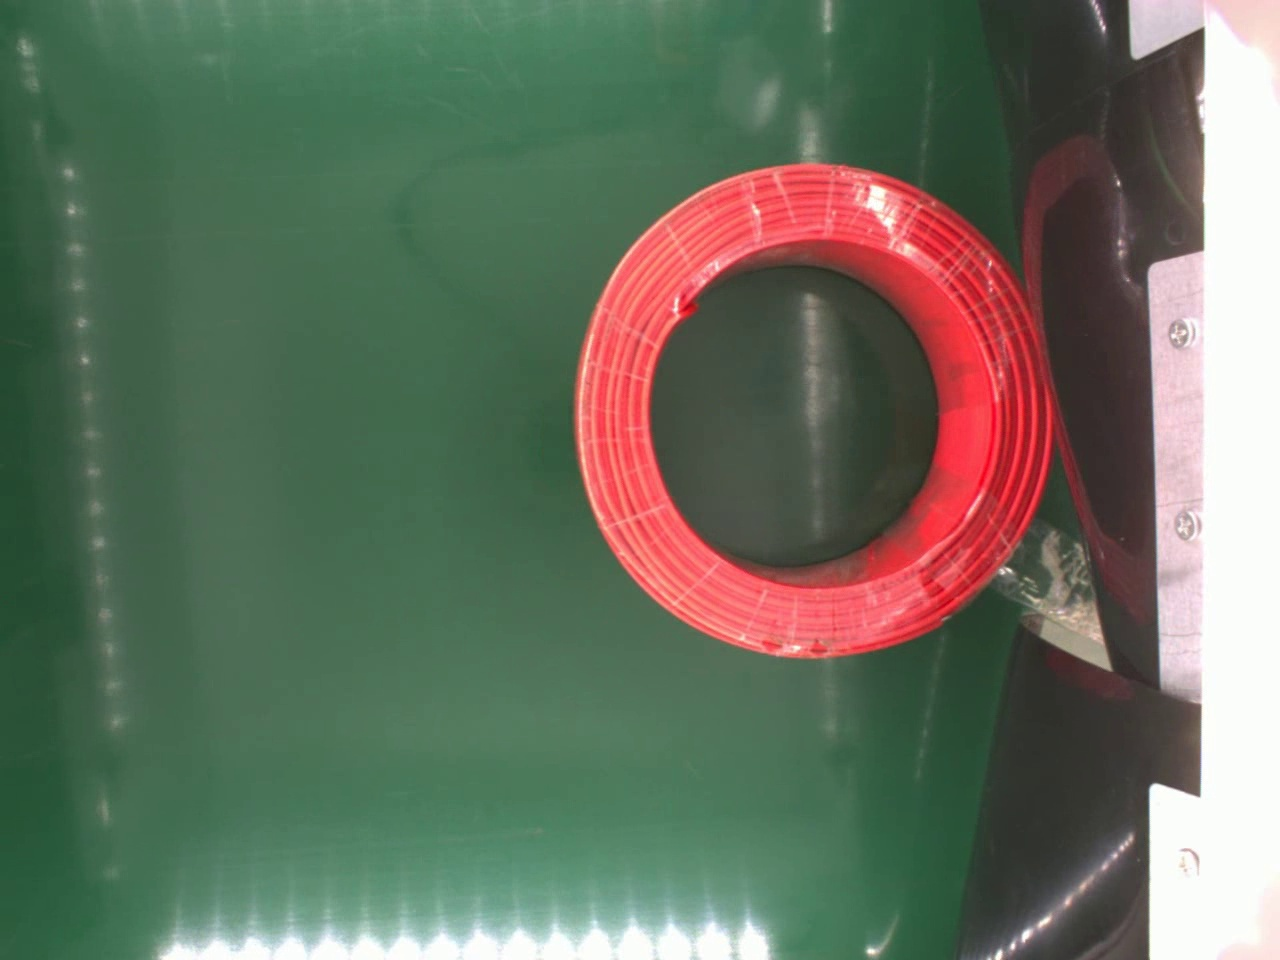red: (569, 161, 1053, 659)
